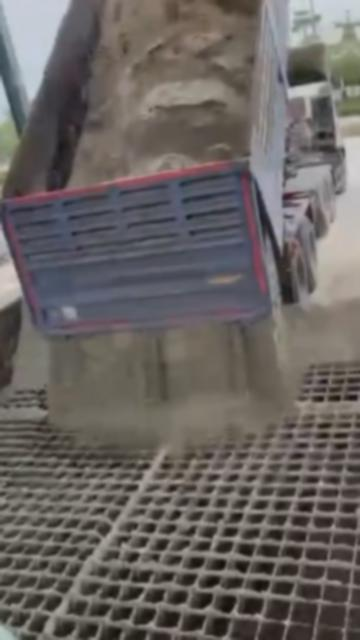sand: (13, 297, 360, 447), (70, 0, 264, 186), (31, 449, 165, 640), (0, 402, 46, 420)
